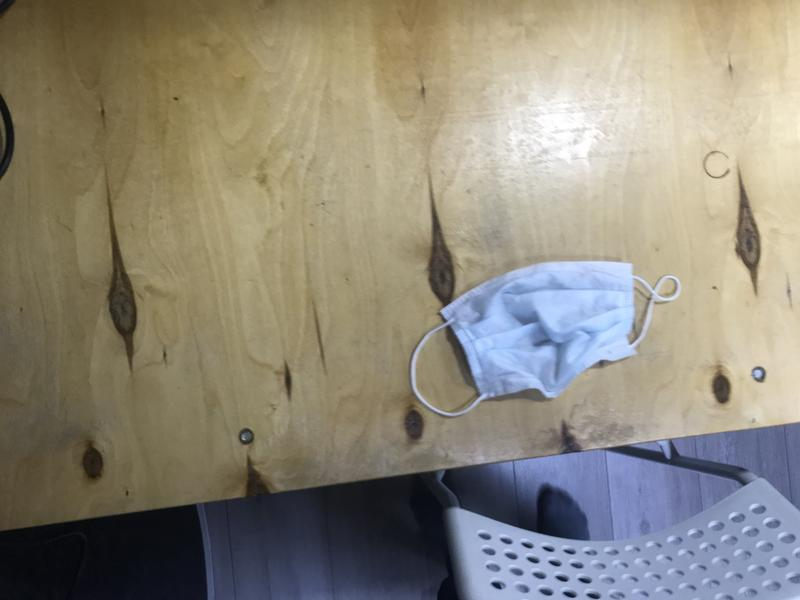medical_mask: (407, 261, 681, 421)
